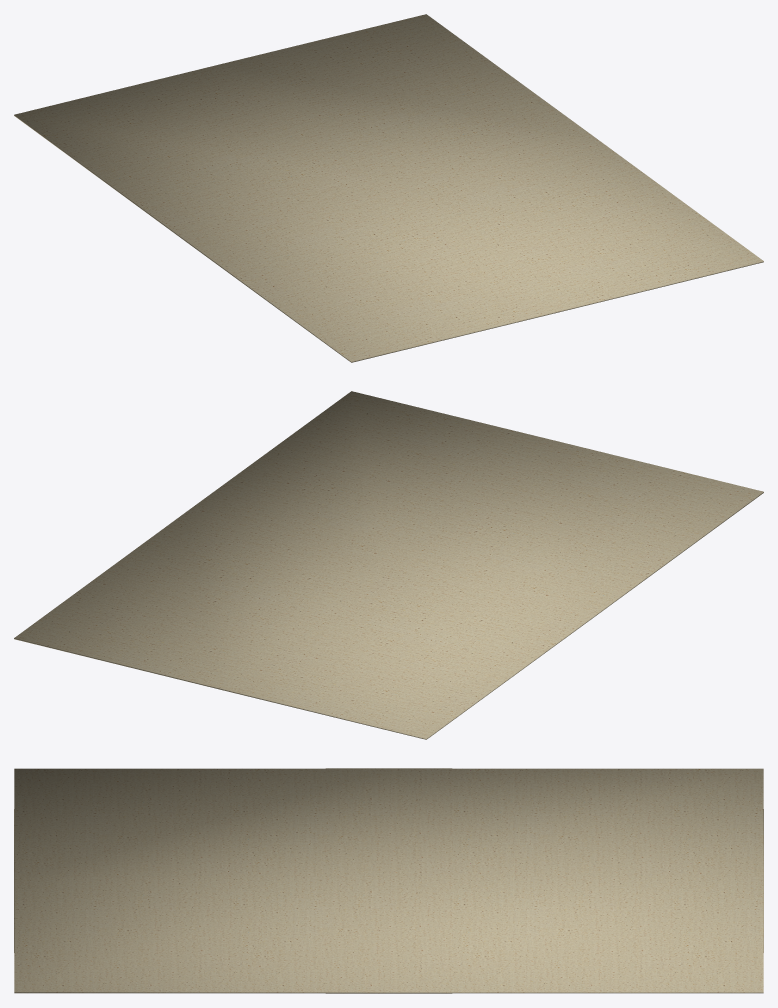
Rendered from rug_240x340_1k.gltf.
3 renders of one model, top to bottom at view 1: azimuth 30°, elevation 25°; view 2: azimuth 150°, elevation 25°; view 3: azimuth 270°, elevation 25°, orthographic. The views are drawn at different scales.
Parts seen in each view (by area): view 1: rug_240x340-node-0; view 2: rug_240x340-node-0; view 3: rug_240x340-node-0.
Boxes of the visible parts, x1,y1,x2,y2 form: rug_240x340-node-0: (14,14,763,362); rug_240x340-node-0: (14,391,763,739); rug_240x340-node-0: (14,768,763,993).
Bounding box in the file's own units: 2.4 × 0.01 × 3.4.
Materials: 1 (1 with a texture image).
